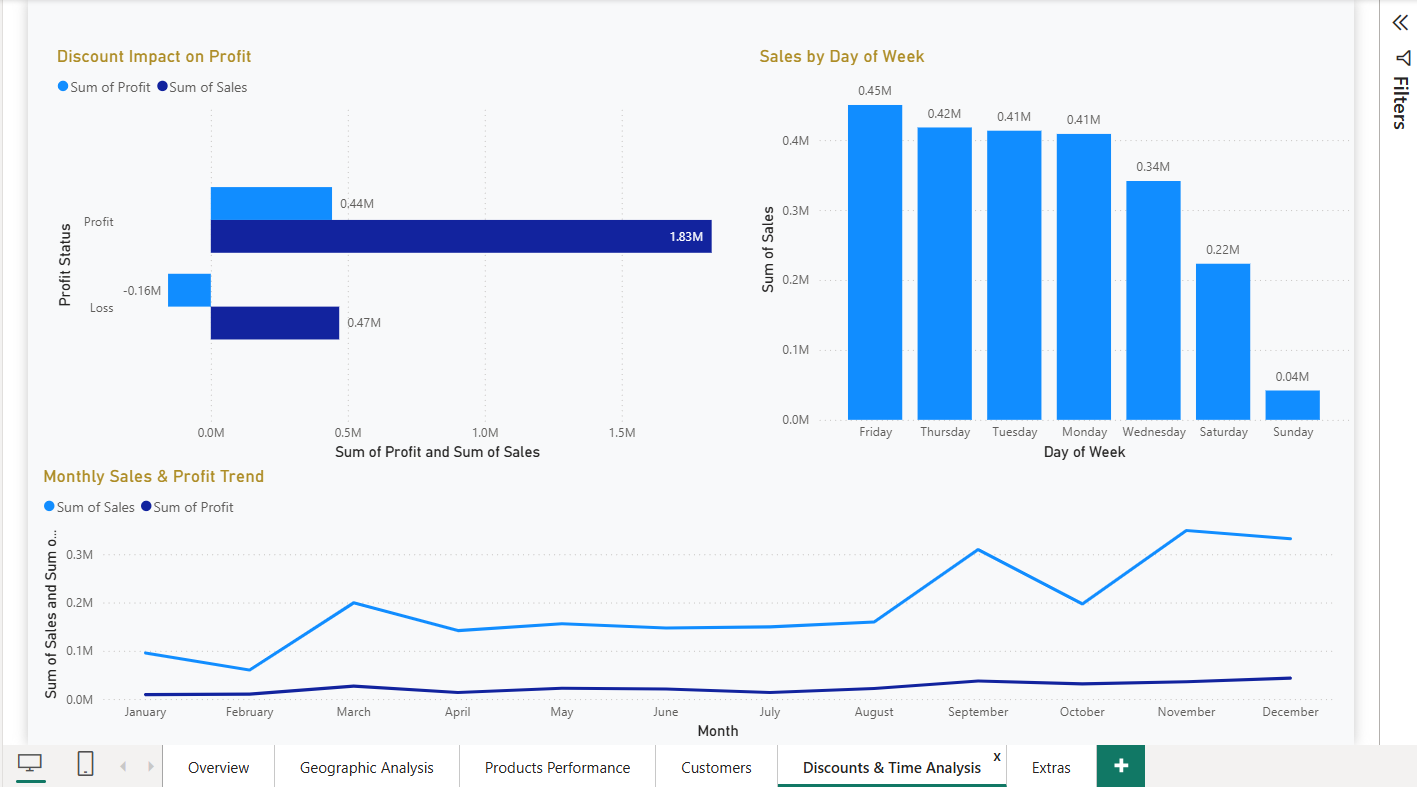

This screenshot's page, from the dashboard's own definition file:
{"tool":"powerbi","page":{"name":"Discounts & Time Analysis","canvas":[1280,720],"ordinal":4},"visuals":[{"type":"clusteredBarChart","title":"Discount Impact on Profit","fields":{"Y":["Sum(Orders.Profit)","Sum(Orders.Sales)"],"Category":["Orders.Profit Status"]},"box":[23.2,44.9,695.2,405.5],"z":0},{"type":"lineChart","title":"Monthly Sales & Profit Trend","fields":{"Y":["Sum(Orders.Sales)","Sum(Orders.Profit)"],"Category":["Orders.Order Date.Variation.Date Hierarchy.Month"]},"box":[10.1,450.4,1254.2,269.4],"z":1000},{"type":"clusteredColumnChart","title":"Sales by Day of Week","fields":{"Y":["Sum(Orders.Sales)"],"Category":["Orders.Day of Week"]},"box":[701,44.9,579.3,405.5],"z":2000}]}

Visuals, with their boxes on the page's 1280x720 design canvas (x1, y1, x2, y2). These are canvas units, not pixel positions in the 1417x787 screenshot, which may show the page scaled, cropped or inside an application window:
"Discount Impact on Profit" clusteredBarChart: 23,45,718,450
"Monthly Sales & Profit Trend" lineChart: 10,450,1264,720
"Sales by Day of Week" clusteredColumnChart: 701,45,1280,450
